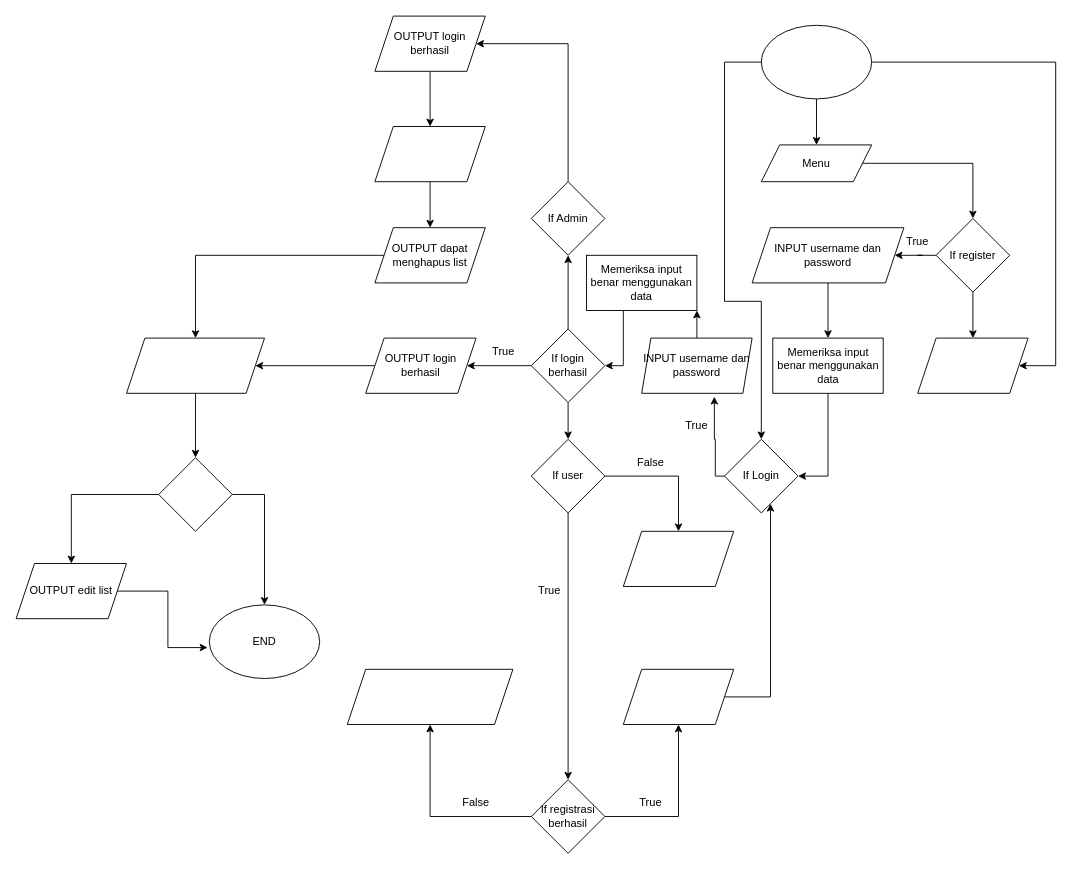
Some shapes in this 1079 by 869 pixel diagram are drawn without their labels. Here are the shapes that lost their labels. From the top down, the box of each, then its label:
(760, 24, 872, 99): START
(374, 126, 485, 182): OUTPUT dapat mengatur list
(126, 337, 264, 393): OUTPUT menampilkan daftar hero dan itemnya
(917, 337, 1028, 393): OUTPUT logout
(158, 457, 232, 531): If login sebagai admin
(622, 530, 734, 586): OUTPUT kembali ke menu
(346, 668, 513, 724): OUTPUT akun sudah ada
(622, 668, 734, 724): OUTPUT Selamat, aku anda telah di buat
